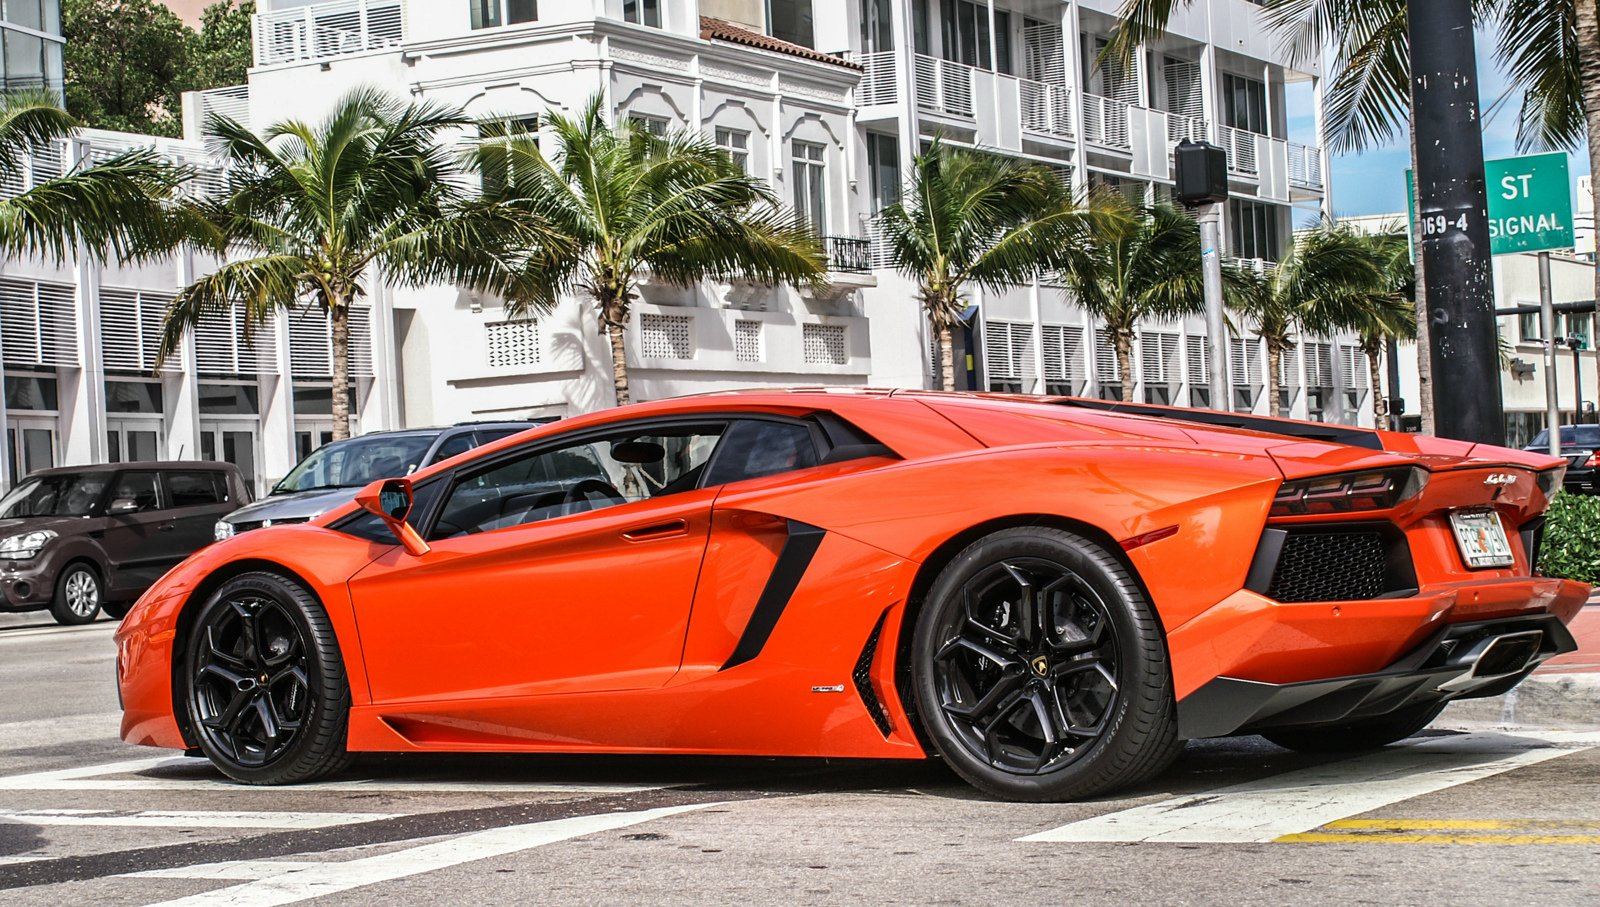headlight: (1243, 460, 1426, 506), (0, 521, 62, 561), (204, 521, 240, 538)
wheel: (898, 521, 1187, 801), (170, 565, 357, 795), (1257, 682, 1466, 757), (49, 550, 113, 635)
